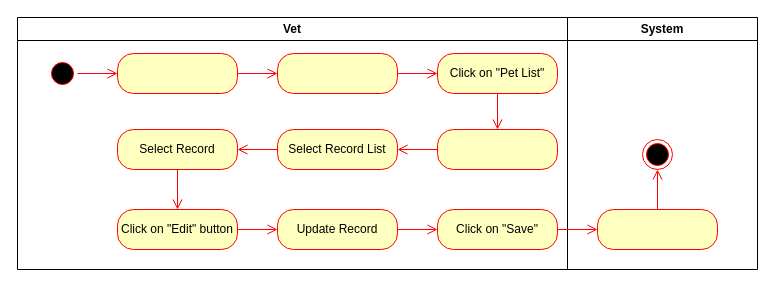
Some shapes in this 775 by 287 pixel diagram are drawn without their labels. Here are the shapes that lost their labels. From the top down, the centre of each, then its label:
At (177,73): "Login".
At (337,73): "View Dashboard".
At (497,149): "Select Pet".
At (657,229): "Save changes".
